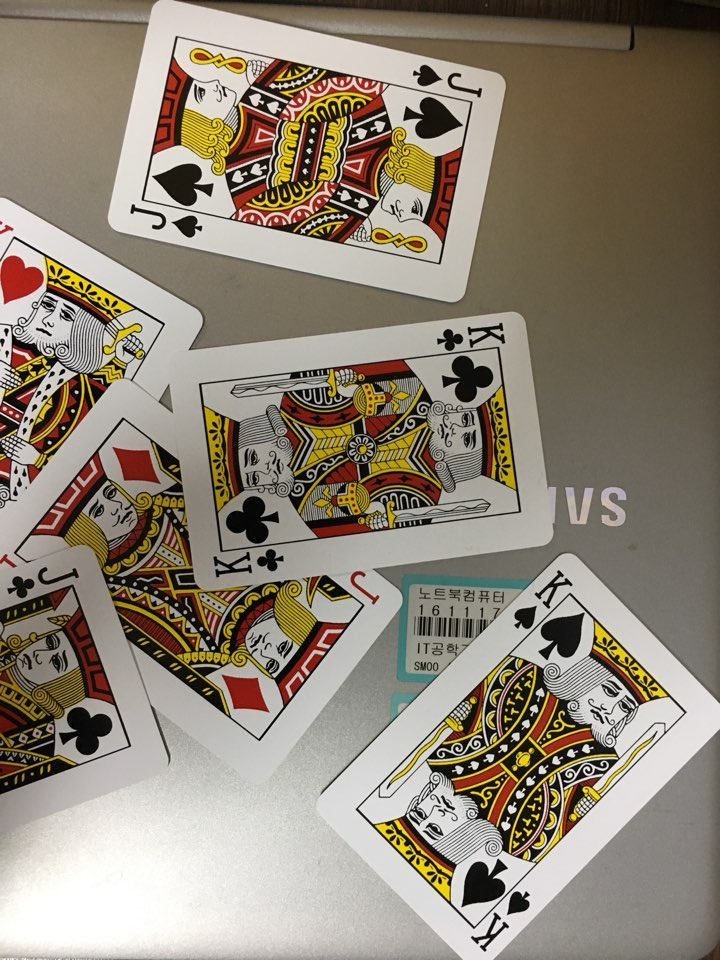jack: (1, 372, 412, 785), (99, 1, 514, 314), (1, 531, 178, 863)
king: (303, 551, 720, 950), (164, 294, 573, 599), (1, 180, 214, 634)
